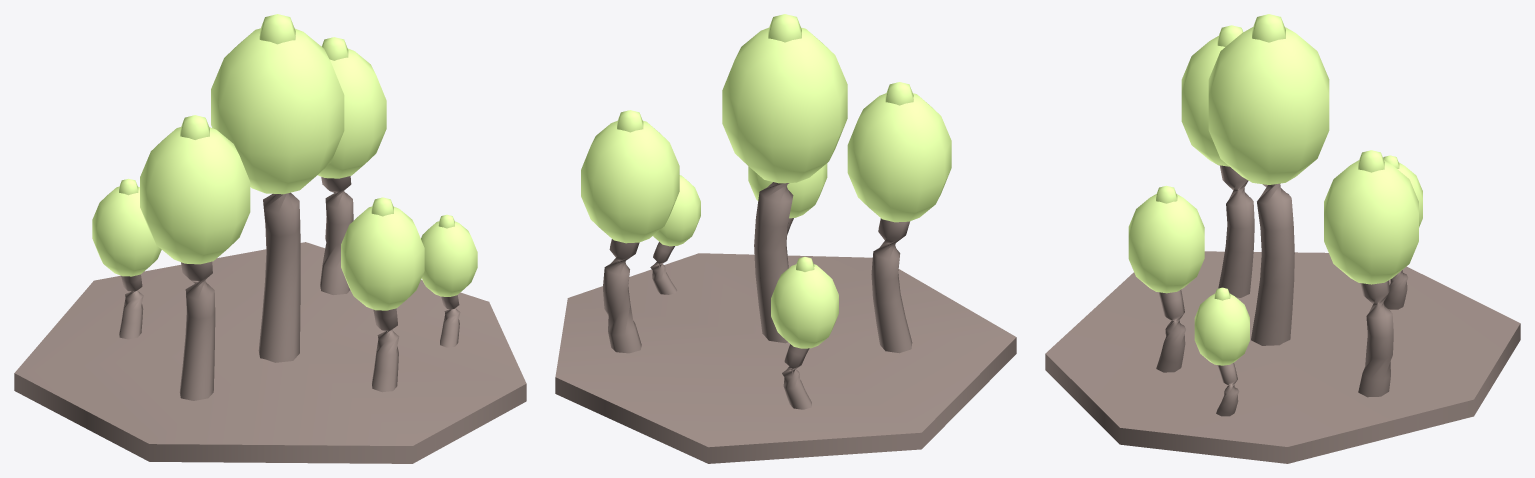
Rendered from undead-horde-and-infected-variants-spore-pod-cluster-791a50d2__12018.glb.
The picture shows the model from 3 angles, left to right: view 1: azimuth 30°, elevation 25°; view 2: azimuth 150°, elevation 25°; view 3: azimuth 270°, elevation 25°; orthographic projection. The views are drawn at different scales.
Parts seen in each view (by area): view 1: spore-pod-cluster; view 2: spore-pod-cluster; view 3: spore-pod-cluster.
Part boxes in pixels (x1=…): spore-pod-cluster: x1=14, y1=14, x2=526, y2=463; spore-pod-cluster: x1=555, y1=14, x2=1016, y2=463; spore-pod-cluster: x1=1045, y1=14, x2=1520, y2=463.
Size of the model in its own units: 0.5 by 0.4208 by 0.51.
